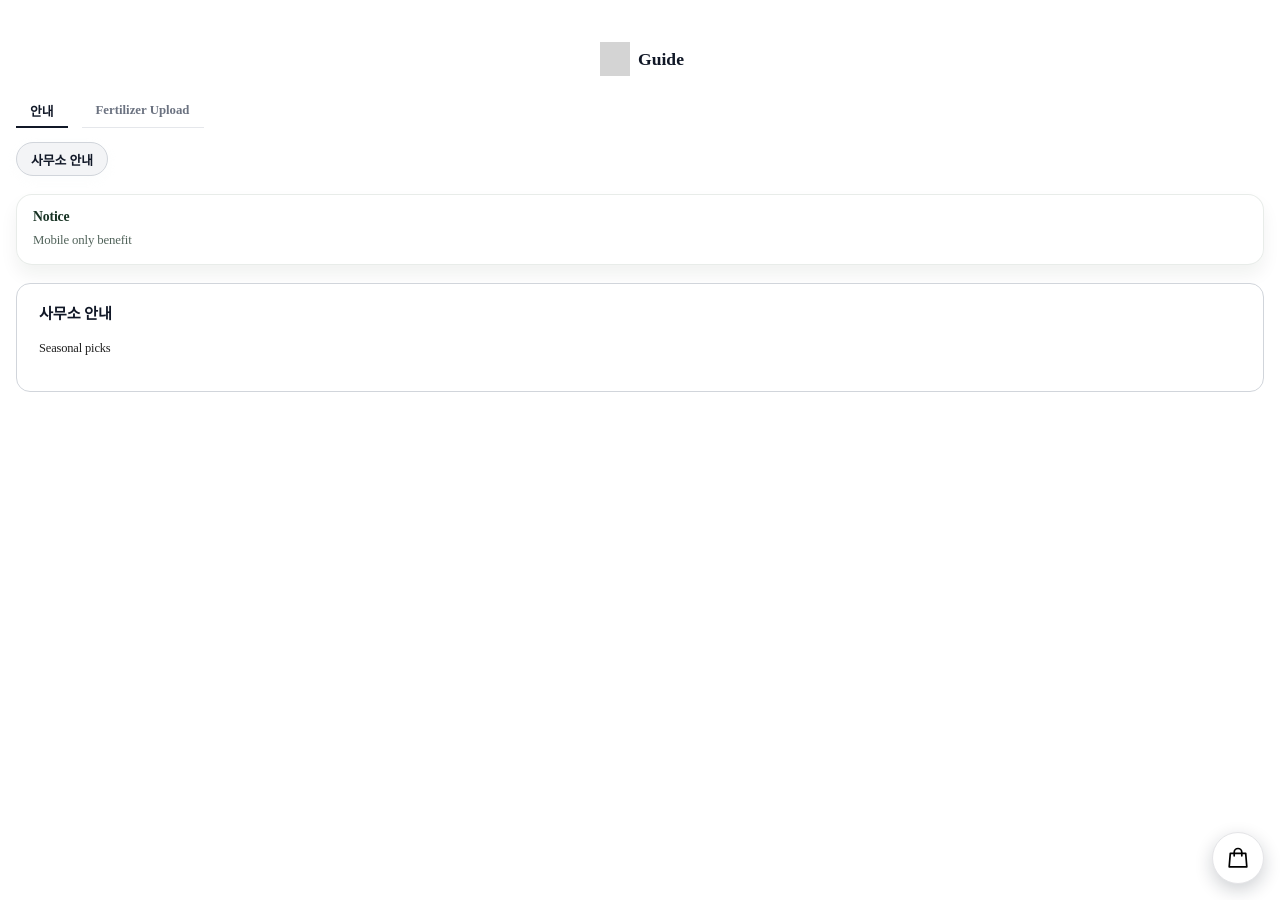
PublicStorefrontPage › renders helper blocks from mobileUiTree and only shows fields selected as visible
Click the button "Fertilizer Upload": (142, 111) [82, 94, 204, 128]
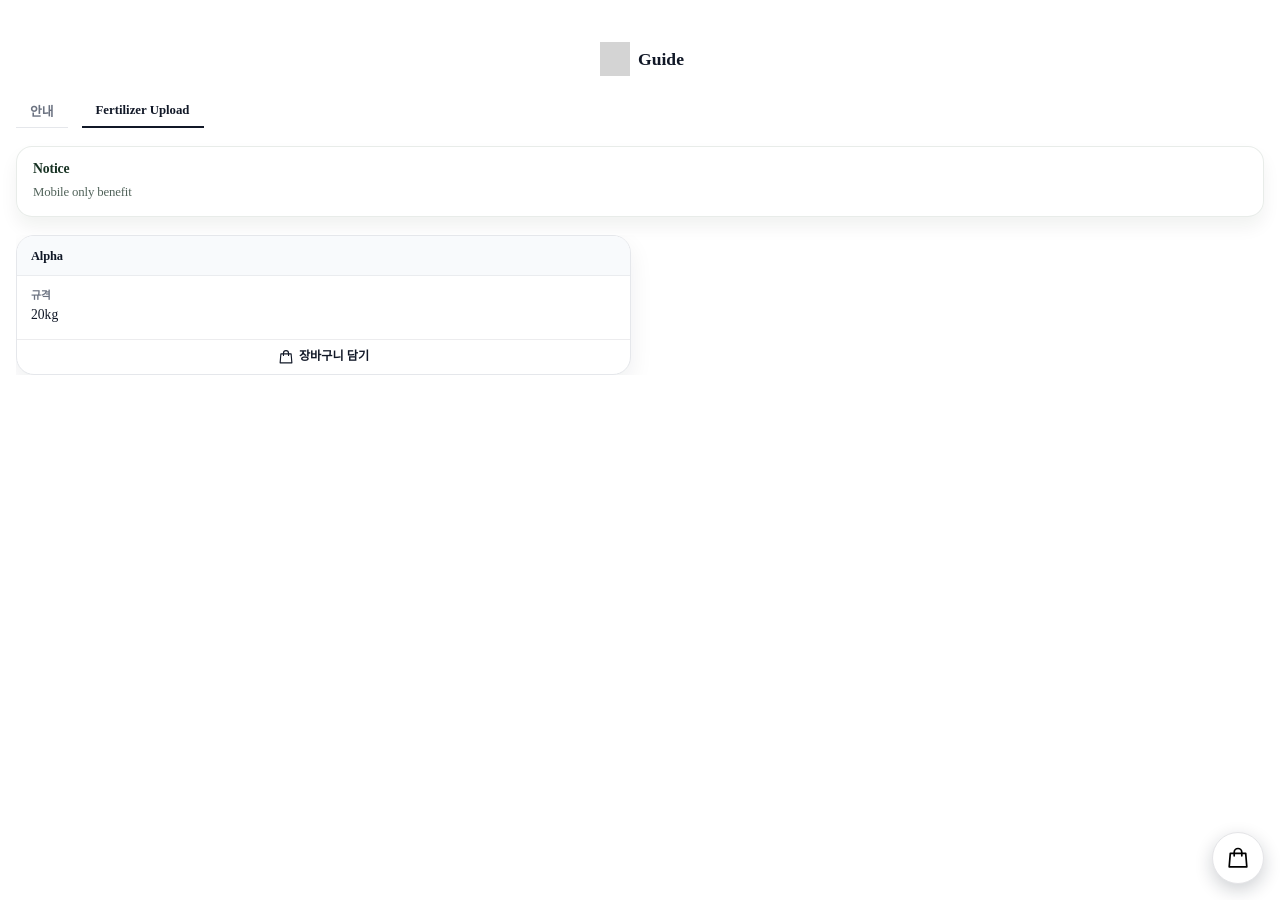
expect the text "Mobile only benefit" is shown: met, box [33, 185, 132, 199]
expect the text "20kg" is shown: met, box [31, 307, 58, 322]
